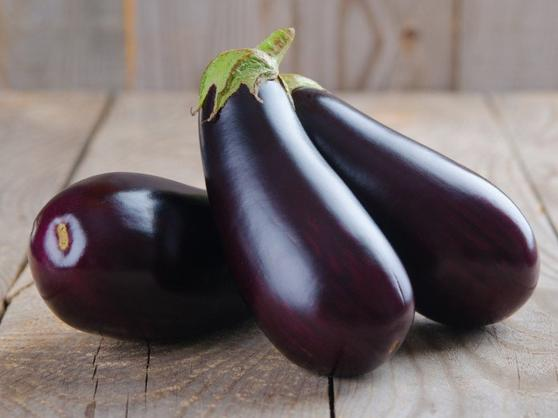eggplant: (179, 26, 425, 379)
